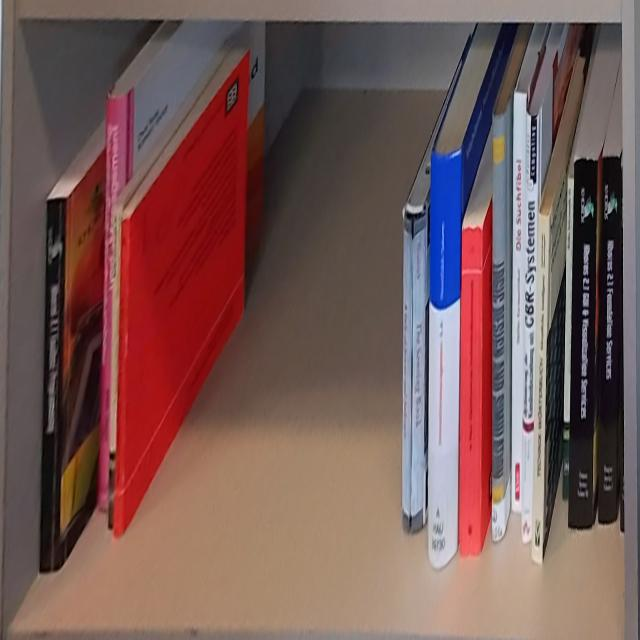Book Spine: (427, 148, 461, 567), (97, 93, 127, 507), (569, 155, 597, 530), (40, 199, 66, 576), (521, 109, 541, 544), (510, 89, 529, 513), (460, 226, 484, 557), (601, 154, 619, 525), (531, 214, 550, 559), (491, 111, 506, 542), (114, 214, 130, 538), (106, 208, 122, 529), (411, 212, 427, 531), (561, 177, 574, 498), (402, 209, 412, 531)
